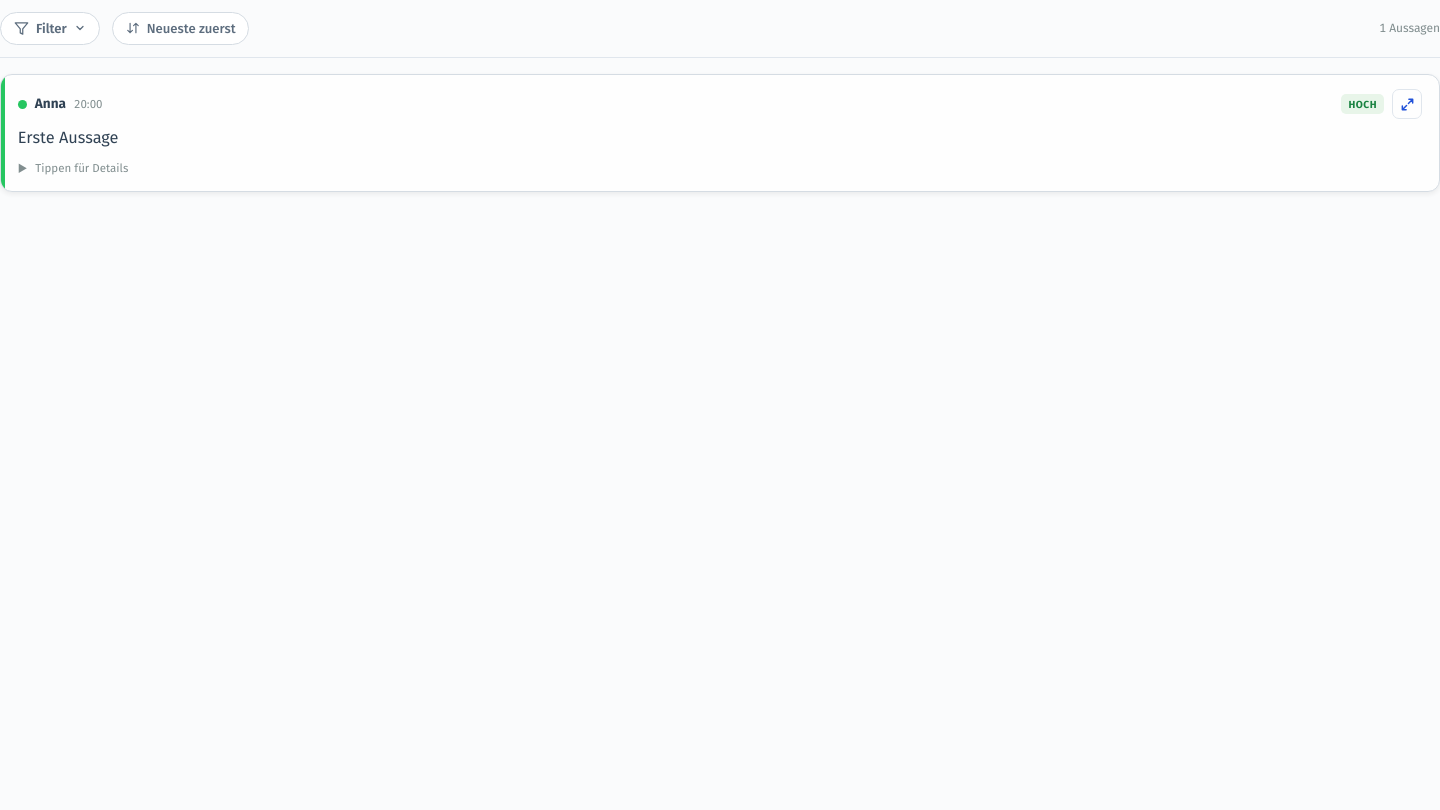
Test: FactCheckStream reasoning › closes the side panel with "Zurück" and leaves the page usable
Click the button named "Mehr anzeigen".
click(1407, 104)  # box [1392, 89, 1422, 119]
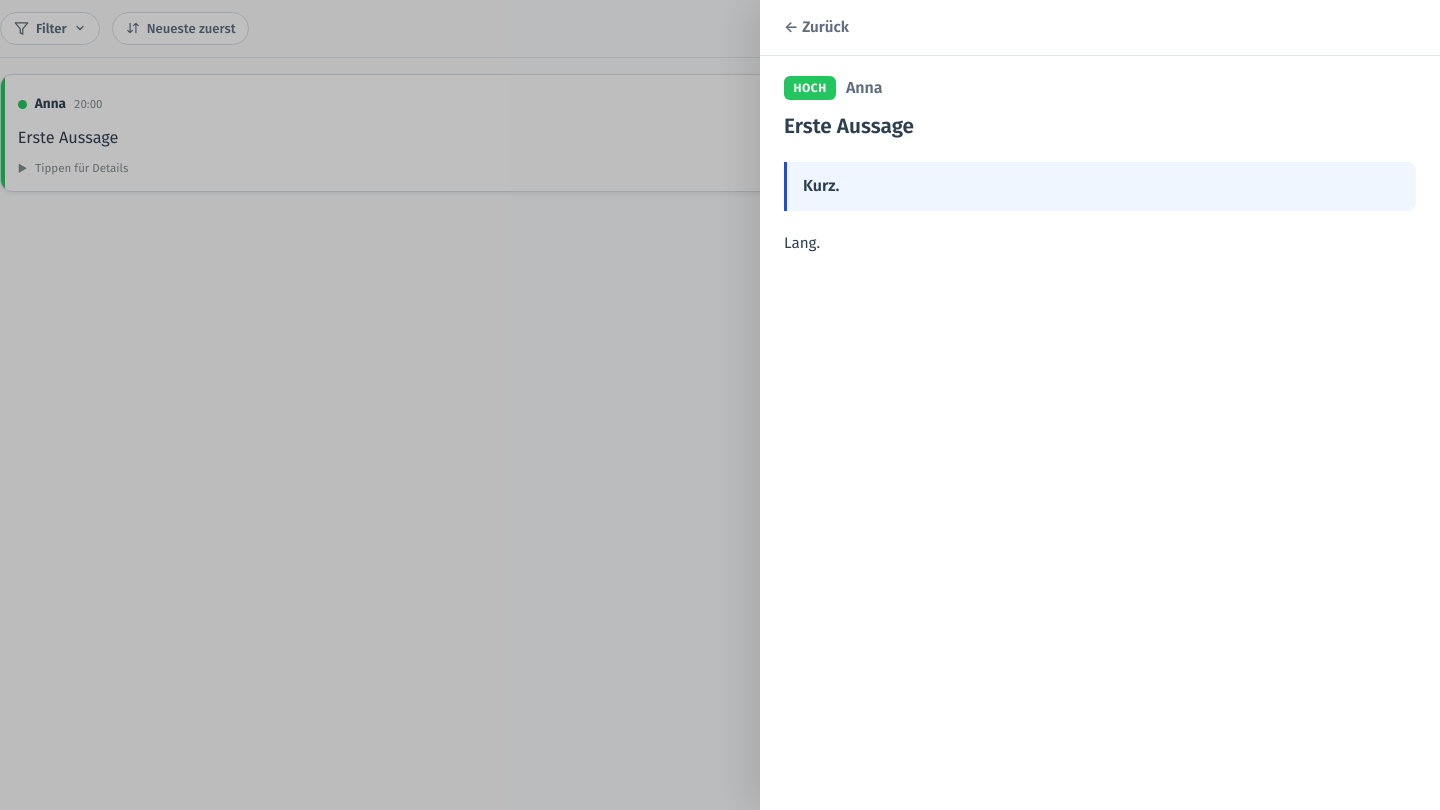
Click the button "← Zurück".
click(817, 27)  # box [760, 0, 1439, 56]
Wait 300 ms
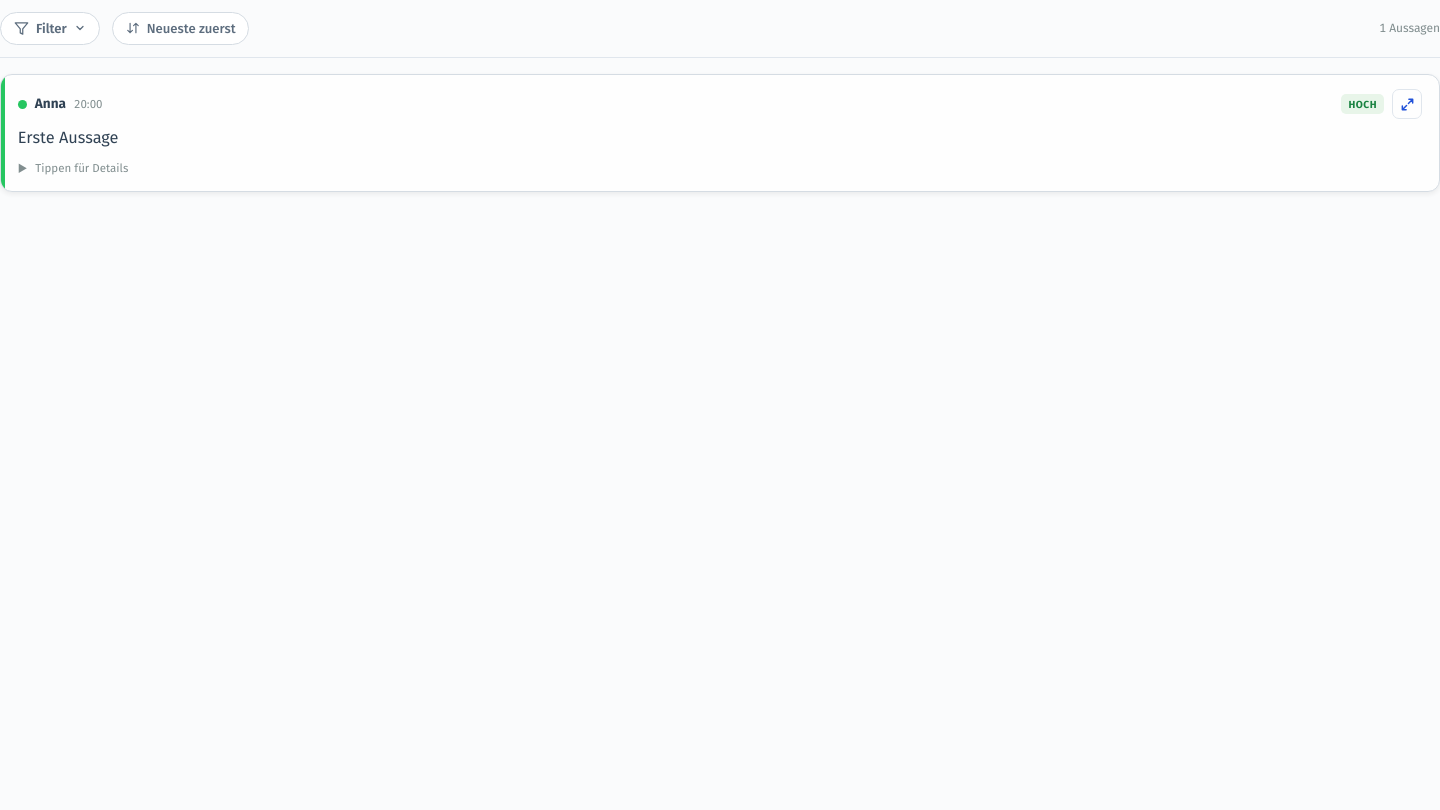
Result: the dialog is gone
Result: the element with class "claim-detail-backdrop" is gone
